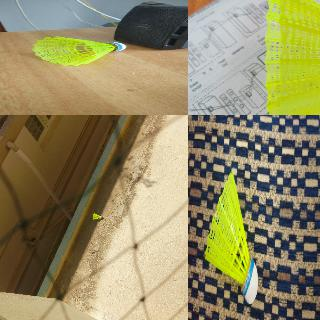shuttlecock: (204, 173, 257, 303), (265, 0, 319, 114), (32, 36, 126, 65), (92, 212, 101, 220)
